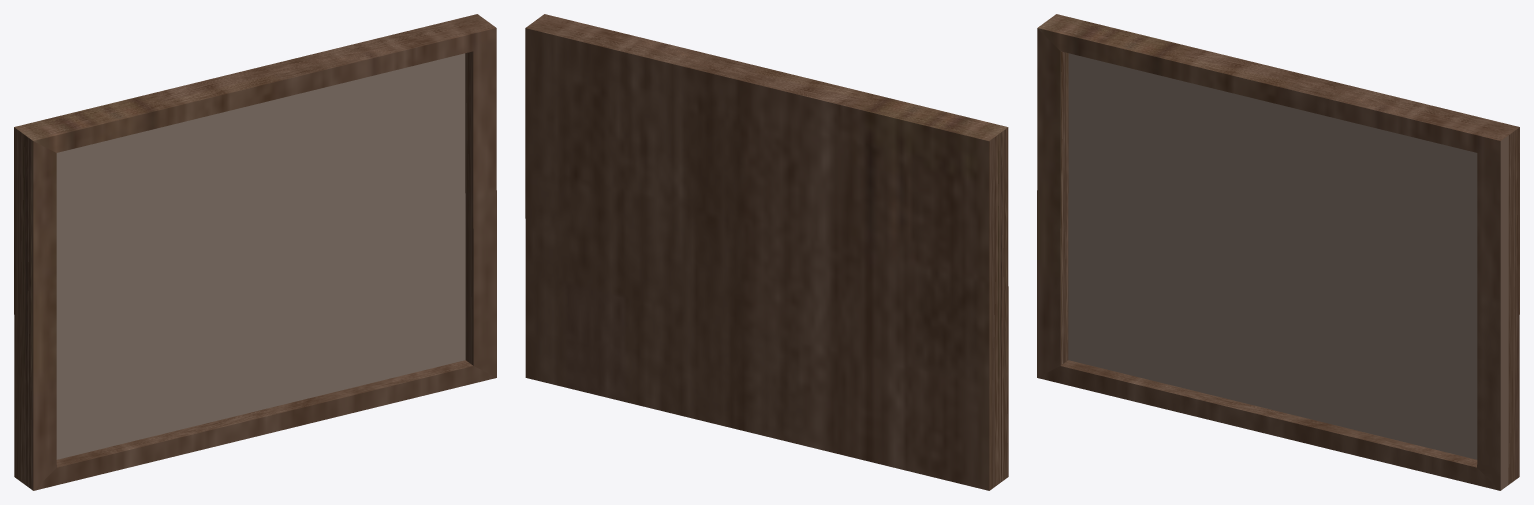
The model's file is Cuadro_3x2 1.fbx.
3 views of the same model, side by side, from view 1: azimuth 30°, elevation 25°; view 2: azimuth 150°, elevation 25°; view 3: azimuth 330°, elevation 25° (orthographic).
Visible parts, largest first — view 1: Cuadro_3x2; view 2: Cuadro_3x2; view 3: Cuadro_3x2.
Part boxes in pixels (x1=…): Cuadro_3x2: x1=14, y1=14, x2=496, y2=490; Cuadro_3x2: x1=525, y1=14, x2=1008, y2=490; Cuadro_3x2: x1=1037, y1=14, x2=1519, y2=490.
Bounding box in the file's own units: 4775 × 3443 × 348.
Materials: 1 (1 with a texture image).
